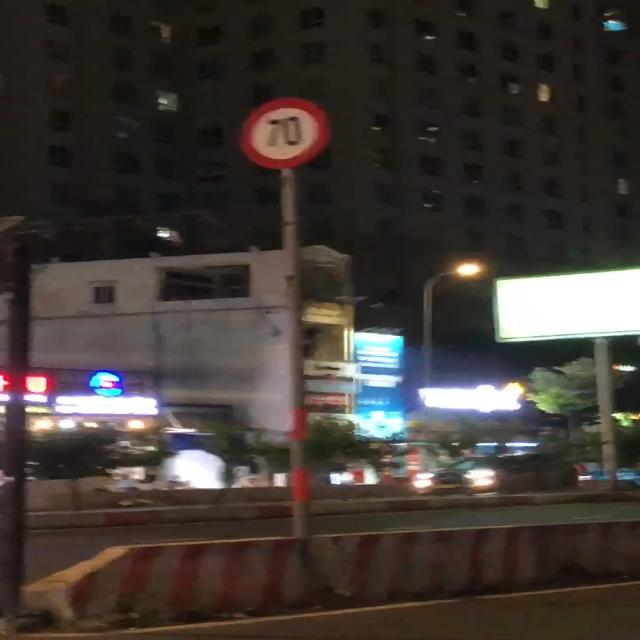Bien bao toc do toi da cho phep: (232, 92, 341, 176)
